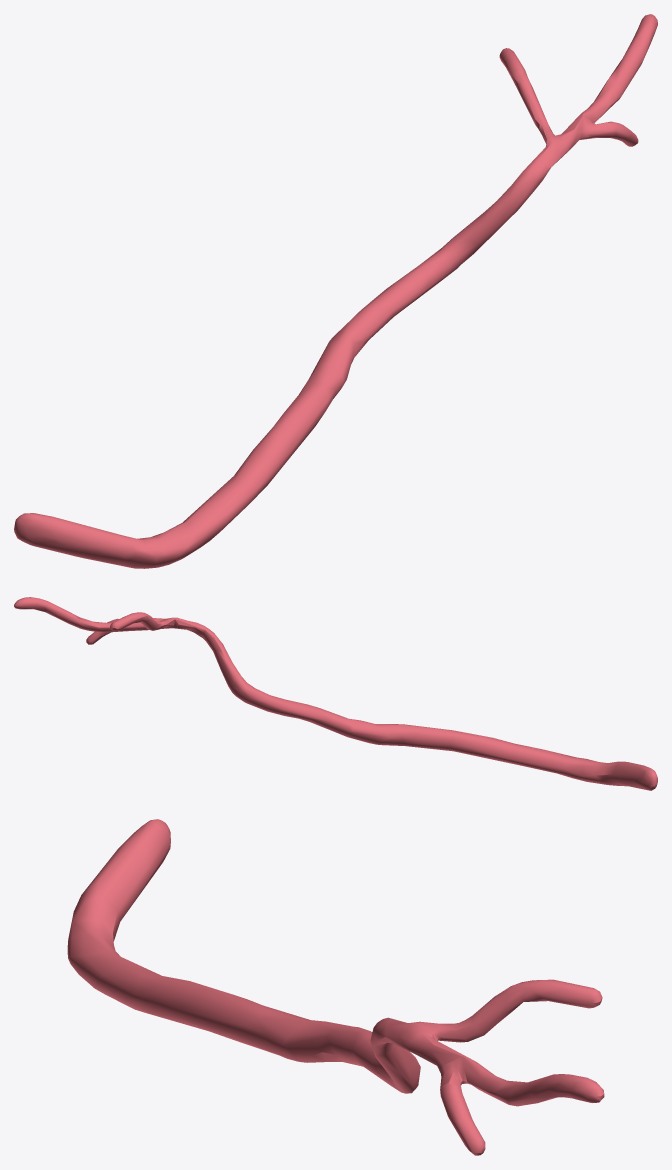
The model's file is fma14331.glb.
3 views of the same model, one above another, from view 1: azimuth 30°, elevation 25°; view 2: azimuth 150°, elevation 25°; view 3: azimuth 270°, elevation 25° (orthographic). The views are drawn at different scales.
Parts seen in each view (by area): view 1: FMA14331; view 2: FMA14331; view 3: FMA14331.
Part boxes in pixels (x1=…): FMA14331: x1=14, y1=14, x2=657, y2=568; FMA14331: x1=14, y1=597, x2=657, y2=790; FMA14331: x1=67, y1=819, x2=604, y2=1155.
Bounding box in the file's own units: 0.1079 × 0.0321 × 0.0471.
